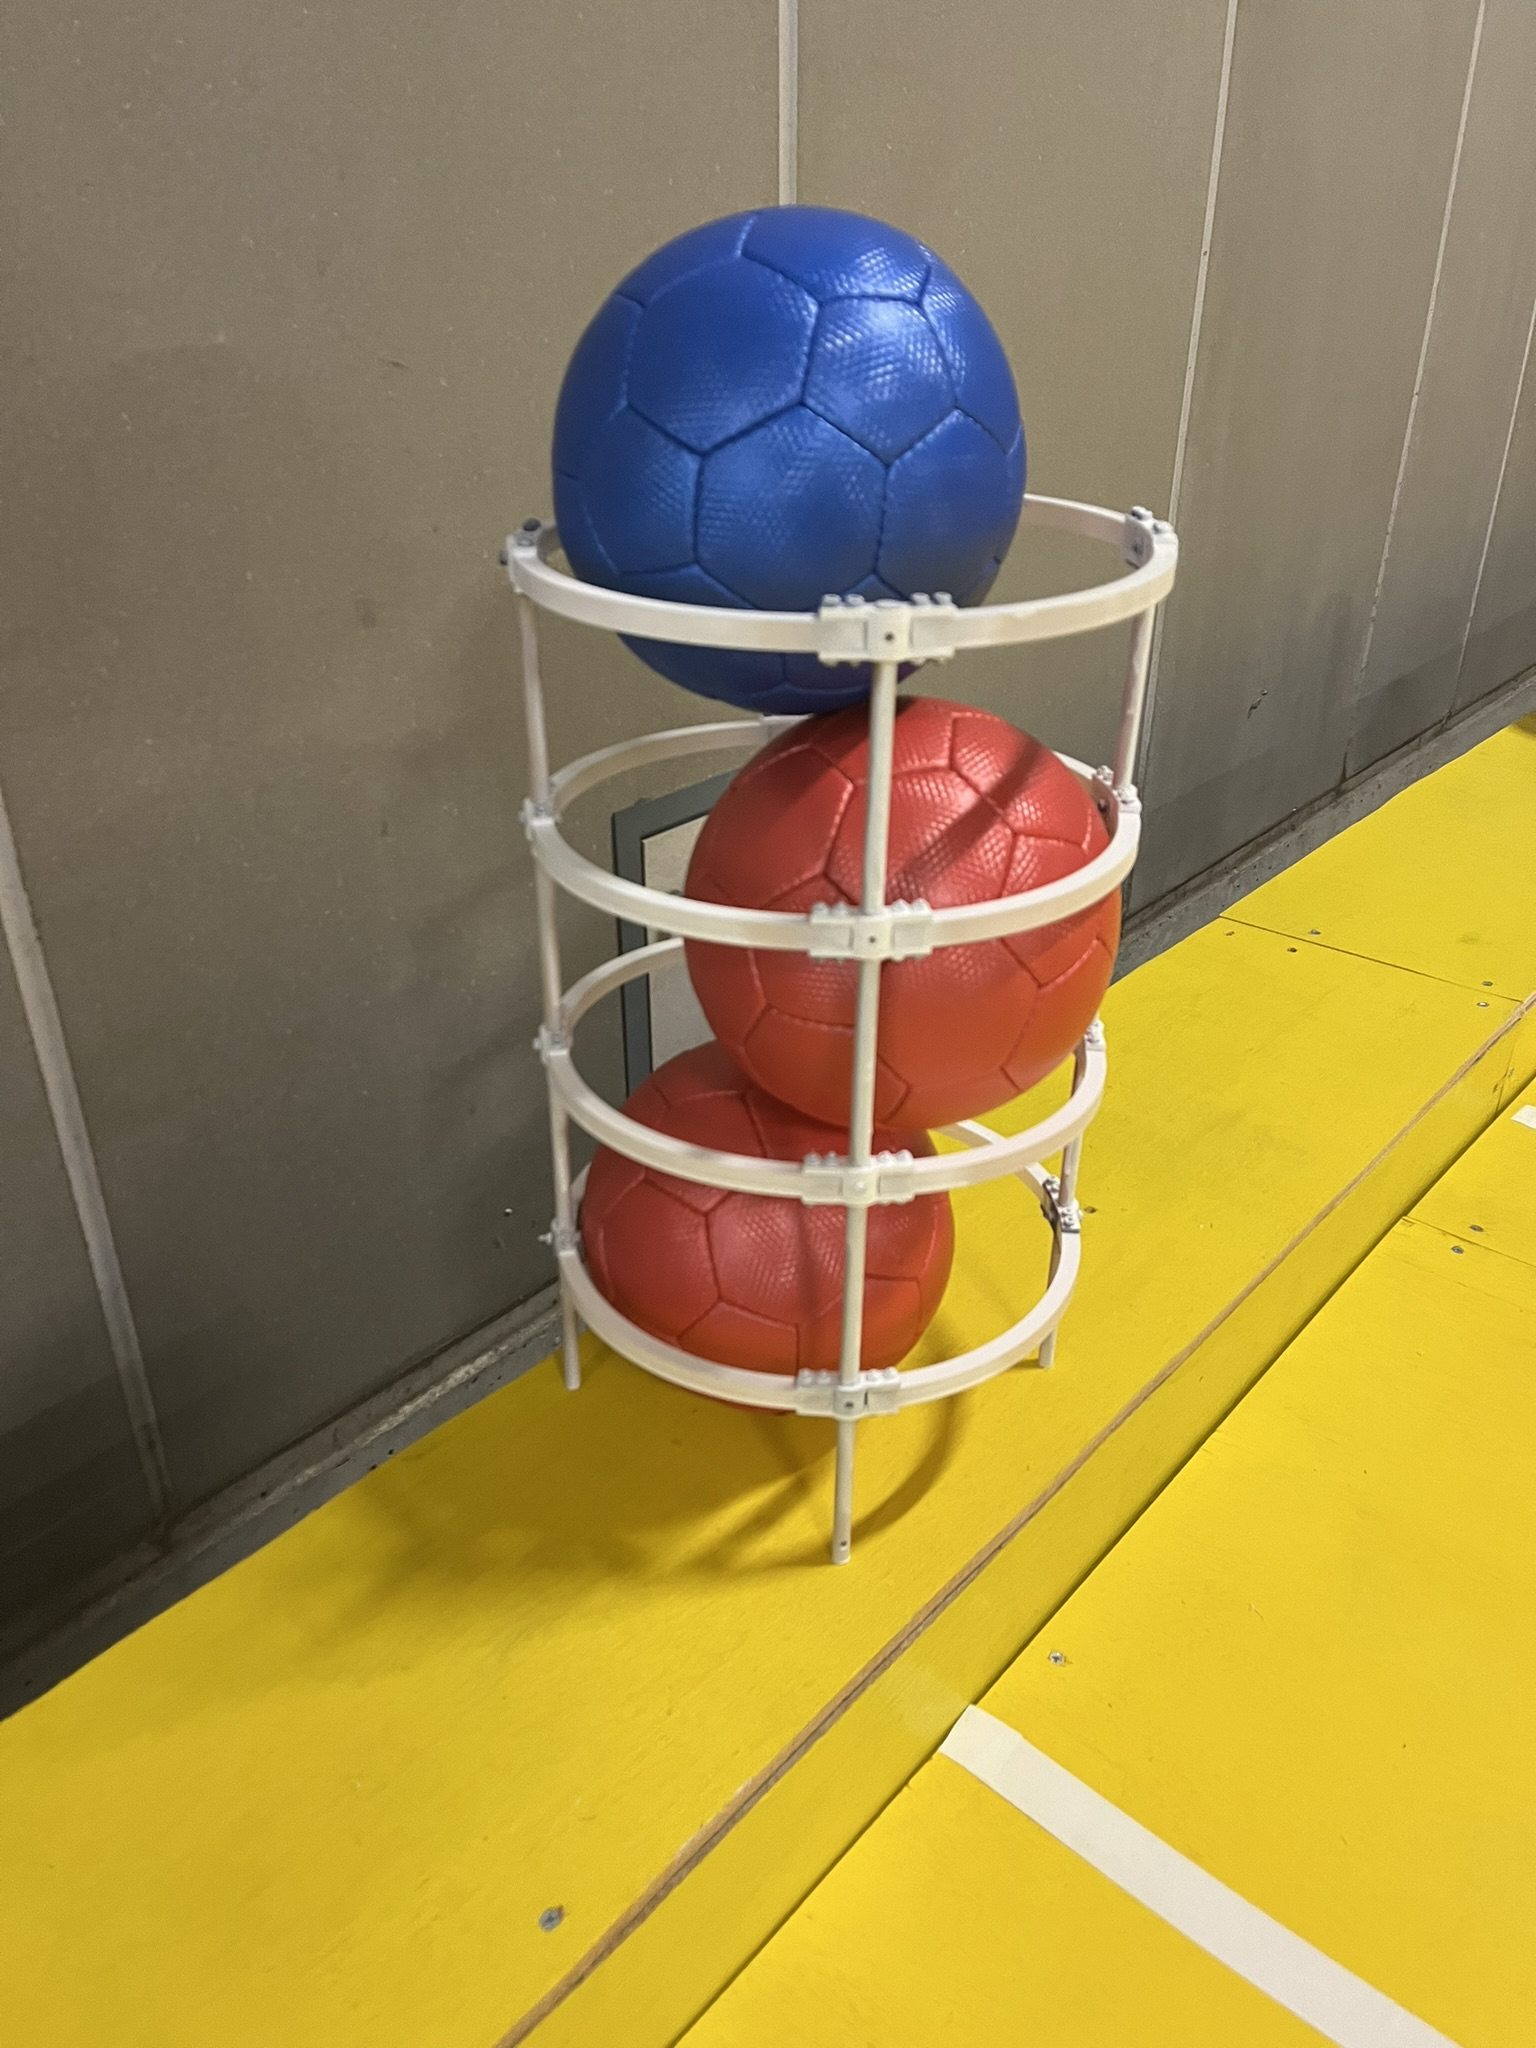blue: (521, 208, 1047, 722)
